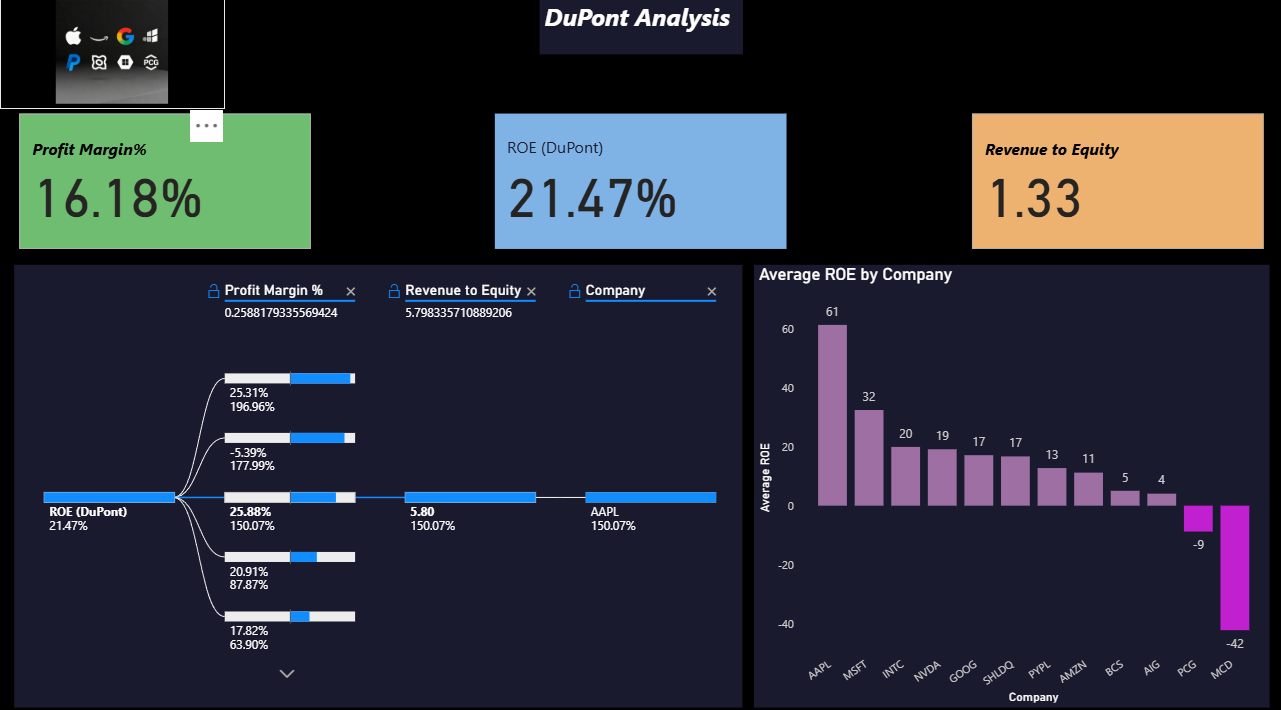

This screenshot's page, from the dashboard's own definition file:
{"tool":"powerbi","page":{"name":"DuPont Analysis","canvas":[1280,720],"ordinal":3},"visuals":[{"type":"textbox","box":[538,0,202.8,59],"z":0},{"type":"cardVisual","fields":{"Data":["Key_Measure.Profit Margin%"]},"box":[14.2,113.3,301.6,145.8],"z":1000},{"type":"cardVisual","fields":{"Data":["Key_Measure.Revenue to Equity"]},"box":[964.2,113.3,301.6,145.8],"z":2000},{"type":"cardVisual","fields":{"Data":["Key_Measure.ROE (DuPont)"]},"box":[488.5,113.3,301.6,145.8],"z":3000},{"type":"decompositionTreeVisual","fields":{"Analyze":["Key_Measure.ROE (DuPont)"],"ExplainBy":["Financial Statements.Profit Margin %","Financial Statements.Revenue to Equity","Dim_Company.Company "]},"box":[14.2,269,726.4,441.8],"z":4000},{"type":"columnChart","fields":{"Y":["Key_Measure.Average ROE"],"Category":["Dim_Company.Company "]},"box":[751.9,269,514,441.8],"z":5000},{"type":"image","box":[0,0,223.7,113.3],"z":6000}]}

Visuals, with their boxes on the page's 1280x720 design canvas (x1, y1, x2, y2). These are canvas units, not pixel positions in the 1281x710 screenshot, which may show the page scaled, cropped or inside an application window:
textbox: select_region(538, 0, 741, 59)
cardVisual - Key_Measure.Profit Margin%: select_region(14, 113, 316, 259)
cardVisual - Key_Measure.Revenue to Equity: select_region(964, 113, 1266, 259)
cardVisual - Key_Measure.ROE (DuPont): select_region(488, 113, 790, 259)
decompositionTreeVisual - Key_Measure.ROE (DuPont) x Financial Statements.Profit Margin %: select_region(14, 269, 741, 711)
columnChart - Key_Measure.Average ROE x Dim_Company.Company : select_region(752, 269, 1266, 711)
image: select_region(0, 0, 224, 113)
